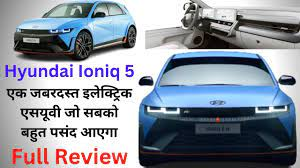Honda Ioniq: (139, 50, 300, 168), (5, 1, 137, 62)
